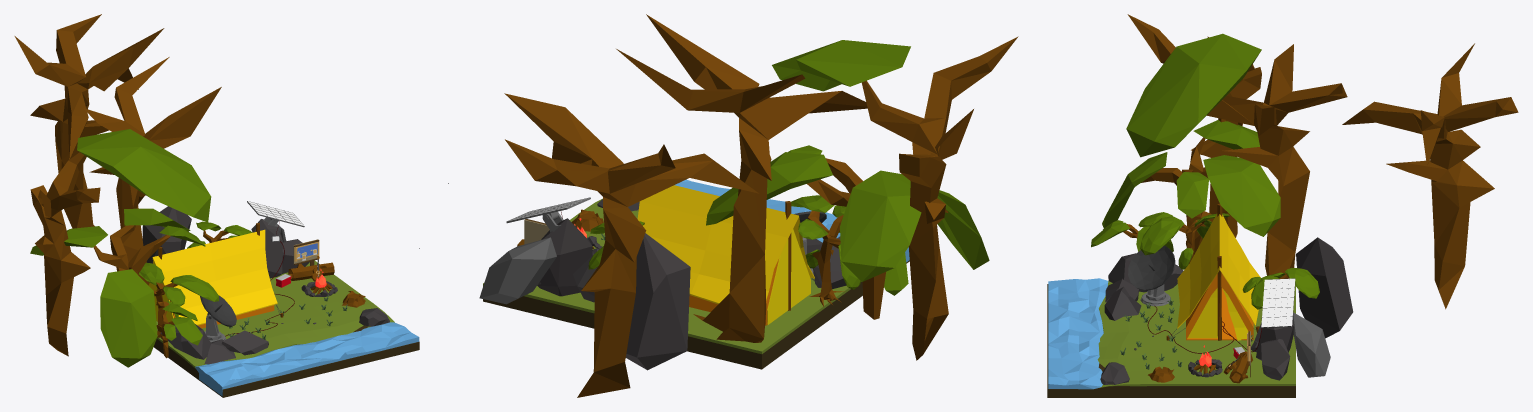
Rendered from camp_simple_export4.glb.
3 renders of one model, left to right at view 1: azimuth 30°, elevation 25°; view 2: azimuth 150°, elevation 25°; view 3: azimuth 270°, elevation 25°, orthographic. The views are drawn at different scales.
Visible parts, largest first — view 1: Small Tree 2.003, Small Tree 2.002, Big Tree.001, Tent-main.001, Rock2.007, Rock2.003, Big Tree, Rock2.005, Rock_1.004, Small Tree Leaves 1, Rock2.001, Small Tree 2.001 (+9 smaller); view 2: Big Tree.001, Small Tree 2.003, Big Tree, Small Tree 2.002, Tent-main.001, Rock2.006, Rock2.007, Rock.001, Rock2.001, Rock2.005, Tent-main.002, Small Tree Leaves 1 (+7 smaller); view 3: Big Tree.001, Small Tree 2.003, Big Tree, Small Tree 2.002, Rock2.007, Rock2.003, Tent-main.001, Rock2.006, Rock2.005, Rock_1.004, Small Tree Leaves 1, Rock.001 (+12 smaller).
Part boxes in pixels (x1=…): Small Tree 2.003: x1=30, y1=129, x2=211, y2=356; Small Tree 2.002: x1=30, y1=208, x2=205, y2=367; Big Tree.001: x1=14, y1=14, x2=164, y2=228; Tent-main.001: x1=148, y1=229, x2=277, y2=325; Rock2.007: x1=156, y1=260, x2=394, y2=367; Rock2.003: x1=195, y1=322, x2=419, y2=396; Big Tree: x1=83, y1=57, x2=221, y2=285; Rock2.005: x1=153, y1=342, x2=419, y2=397; Rock_1.004: x1=160, y1=324, x2=268, y2=364; Small Tree Leaves 1: x1=138, y1=262, x2=218, y2=317; Rock2.001: x1=254, y1=219, x2=309, y2=278; Small Tree 2.001: x1=156, y1=303, x2=202, y2=358; Big Tree.001: x1=504, y1=93, x2=758, y2=397; Small Tree 2.003: x1=772, y1=36, x2=1018, y2=360; Big Tree: x1=616, y1=14, x2=867, y2=342; Small Tree 2.002: x1=706, y1=145, x2=989, y2=319; Tent-main.001: x1=637, y1=185, x2=814, y2=304; Rock2.006: x1=625, y1=233, x2=690, y2=370; Rock2.007: x1=483, y1=198, x2=861, y2=354; Rock.001: x1=479, y1=237, x2=556, y2=304; Rock2.001: x1=537, y1=218, x2=597, y2=302; Rock2.005: x1=483, y1=260, x2=909, y2=369; Tent-main.002: x1=767, y1=229, x2=810, y2=324; Small Tree Leaves 1: x1=791, y1=195, x2=860, y2=289; Big Tree.001: x1=1342, y1=43, x2=1518, y2=309; Small Tree 2.003: x1=1126, y1=14, x2=1261, y2=237; Big Tree: x1=1207, y1=44, x2=1347, y2=278; Small Tree 2.002: x1=1102, y1=120, x2=1280, y2=254; Rock2.007: x1=1097, y1=281, x2=1295, y2=387; Rock2.003: x1=1048, y1=278, x2=1108, y2=389; Tent-main.001: x1=1177, y1=214, x2=1260, y2=328; Rock2.006: x1=1296, y1=237, x2=1353, y2=338; Rock2.005: x1=1047, y1=389, x2=1295, y2=397; Rock_1.004: x1=1104, y1=253, x2=1183, y2=320; Small Tree Leaves 1: x1=1138, y1=212, x2=1229, y2=269; Rock.001: x1=1292, y1=312, x2=1330, y2=377.
Bounding box in the file's own units: 15.26 × 9.08 × 15.17.
